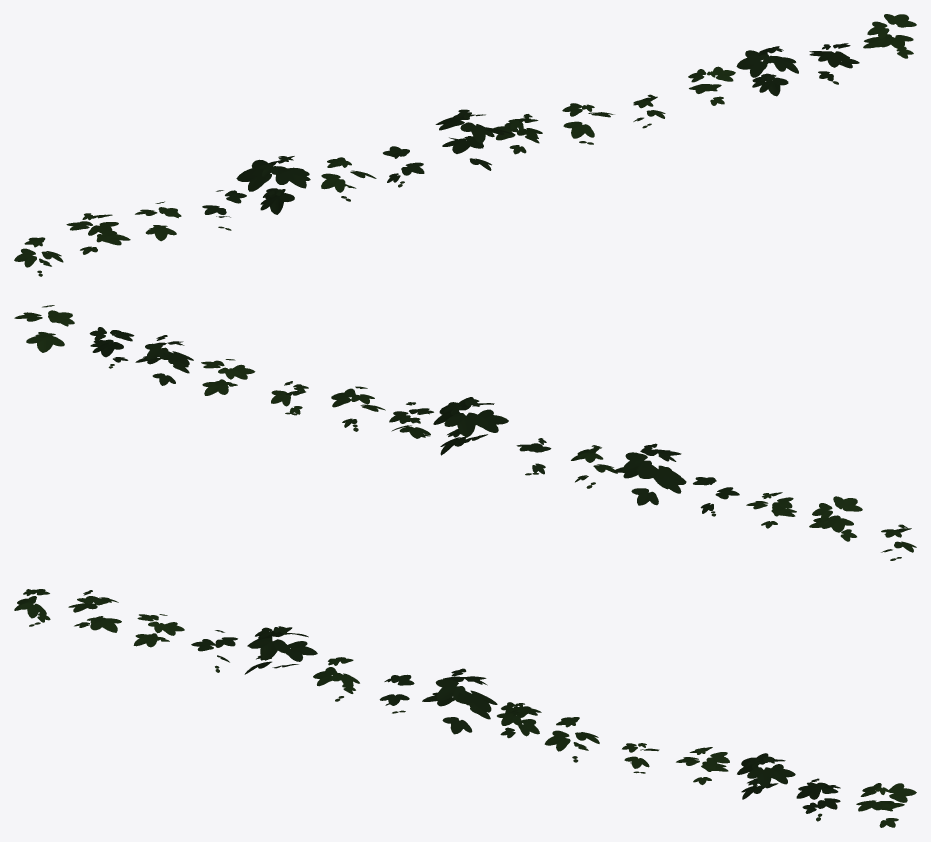
File: ROW_05_SEG3_foliage.dae
3 renders of one model, top to bottom at view 1: azimuth 30°, elevation 25°; view 2: azimuth 150°, elevation 25°; view 3: azimuth 330°, elevation 25°, orthographic.
Visible parts, largest first — view 1: ROW_05_SEG3_foliage; view 2: ROW_05_SEG3_foliage; view 3: ROW_05_SEG3_foliage.
Boxes of the visible parts, x1,y1,x2,y2 form: ROW_05_SEG3_foliage: [14, 14, 916, 276]; ROW_05_SEG3_foliage: [14, 305, 916, 560]; ROW_05_SEG3_foliage: [14, 589, 916, 827].
Size of the model in its own units: 4.47 by 0.334 by 0.277.
